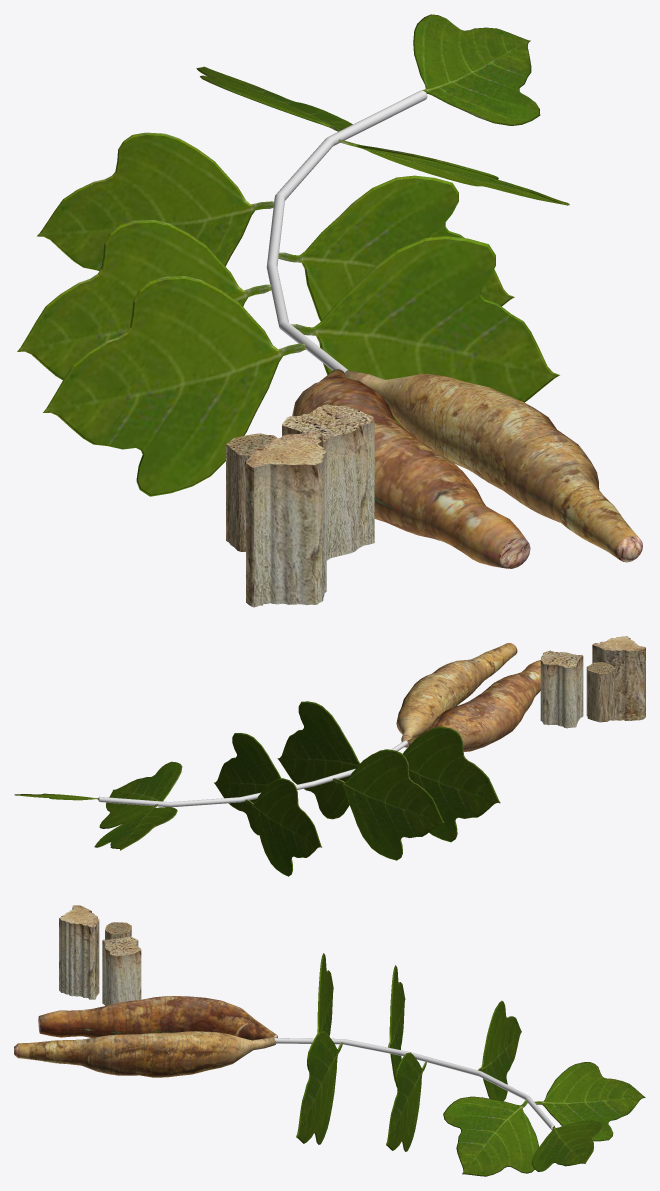
Rendered from gegen.FBX.
3 views of the same model, one above another, from view 1: azimuth 30°, elevation 25°; view 2: azimuth 150°, elevation 25°; view 3: azimuth 270°, elevation 25° (orthographic). The views are drawn at different scales.
Visible parts, largest first — view 1: Line004, Line010, Cylinder002, Line007, Cylinder001, Line006, Line003, Line012, Line009, Line002, Line005, Line001 (+2 smaller); view 2: Line006, Line004, Line010, Cylinder001, Cylinder002, Line007, Line002, Line012, Line003, Line011, Line001, Line008 (+1 smaller); view 3: Cylinder002, Cylinder001, Line011, Line008, Line003, Line010, Line002, Line007, Line012, Line009, Line005, Line006 (+2 smaller).
Boxes of the visible parts, x1,y1,x2,y2 form: Line004: (43, 276, 305, 496); Line010: (291, 236, 559, 429); Cylinder002: (344, 370, 642, 562); Line007: (37, 132, 274, 271); Cylinder001: (292, 369, 530, 568); Line006: (17, 220, 271, 379); Line003: (246, 431, 326, 607); Line012: (278, 175, 514, 321); Line009: (413, 14, 540, 125); Line002: (282, 404, 374, 560); Line005: (266, 90, 427, 372); Line001: (226, 433, 277, 551); Line006: (332, 749, 444, 860); Line004: (403, 726, 500, 842); Line010: (277, 701, 360, 819); Cylinder001: (407, 660, 540, 751); Cylinder002: (396, 643, 517, 747); Line007: (245, 778, 322, 876); Line002: (540, 650, 583, 728); Line012: (214, 733, 280, 835); Line003: (592, 636, 645, 720); Line011: (99, 761, 182, 828); Line001: (586, 662, 614, 722); Line008: (94, 804, 177, 850); Cylinder002: (14, 1031, 276, 1077); Cylinder001: (38, 996, 277, 1040); Line011: (443, 1096, 538, 1176); Line008: (534, 1062, 645, 1141); Line003: (59, 905, 99, 999); Line010: (296, 1031, 342, 1144); Line002: (102, 936, 141, 1005); Line007: (478, 1000, 521, 1101); Line012: (386, 1052, 426, 1151); Line009: (531, 1120, 602, 1171); Line005: (274, 1038, 554, 1129); Line006: (388, 965, 405, 1081).
Size of the model in its own units: 34.2 by 11.22 by 46.7.
